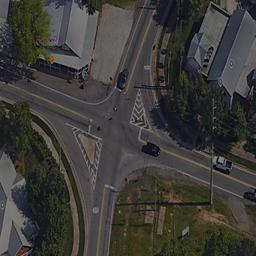Car: (210, 155, 233, 172), (137, 141, 160, 155), (116, 66, 130, 87), (246, 184, 256, 199)
Chevron: (64, 123, 104, 184), (134, 85, 149, 126)
Double Solid Yellow Line: (1, 80, 89, 121), (134, 11, 155, 61), (95, 186, 105, 256), (164, 151, 205, 163)
Stop Line: (136, 125, 143, 140)
